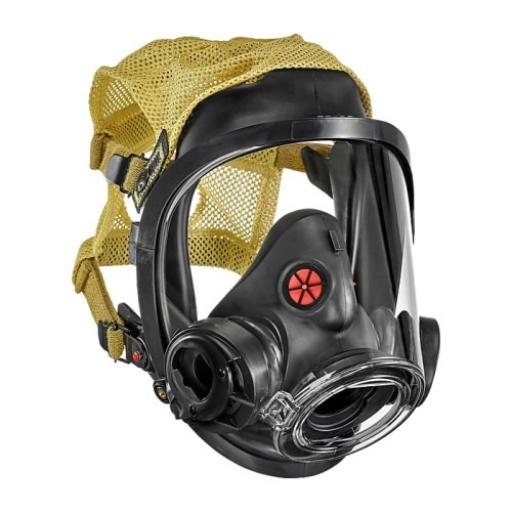mask: (134, 131, 456, 485)
